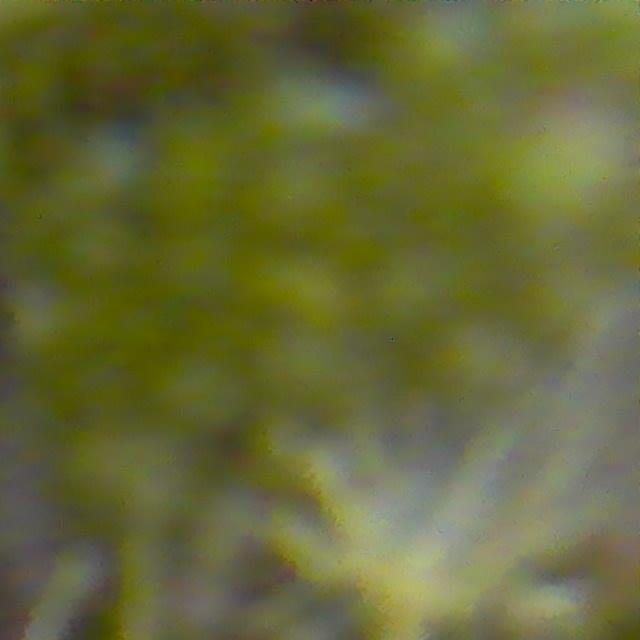SeaGrape: (252, 150, 351, 241), (64, 210, 144, 288)
